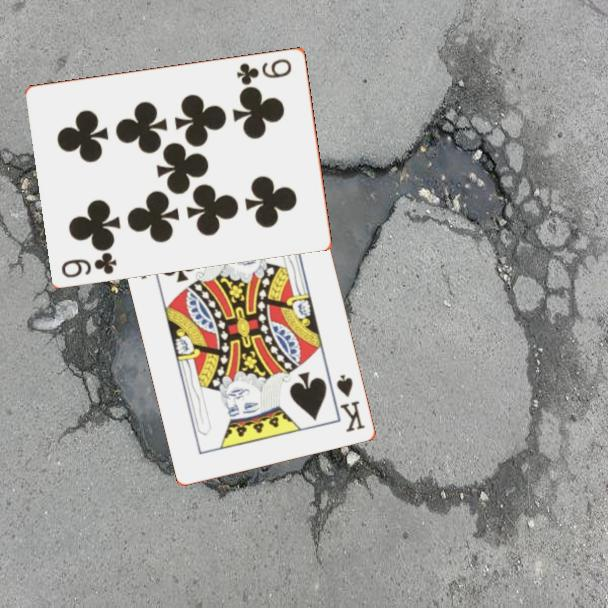c09: (233, 55, 295, 87), (58, 248, 120, 280)
s13: (333, 371, 368, 435)
